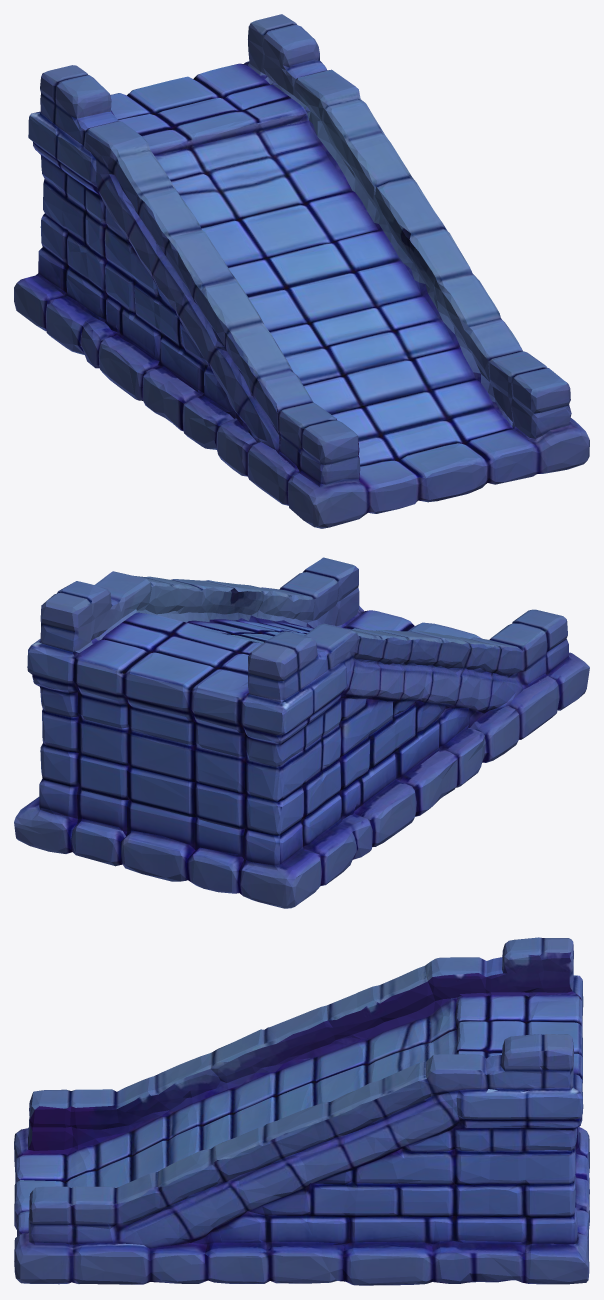
Rendered from ramp.glb.
The picture shows the model from 3 angles, top to bottom: view 1: azimuth 30°, elevation 25°; view 2: azimuth 150°, elevation 25°; view 3: azimuth 270°, elevation 25°; orthographic projection. The views are drawn at different scales.
Parts seen in each view (by area): view 1: tmpp6mgn900.ply; view 2: tmpp6mgn900.ply; view 3: tmpp6mgn900.ply.
Part boxes in pixels (x1,y1,x2,y2): tmpp6mgn900.ply: [14, 14, 589, 528]; tmpp6mgn900.ply: [14, 557, 589, 908]; tmpp6mgn900.ply: [14, 937, 589, 1285].
Size of the model in its own units: 1.07 by 0.8873 by 1.99.
1 material, 1 textured.
